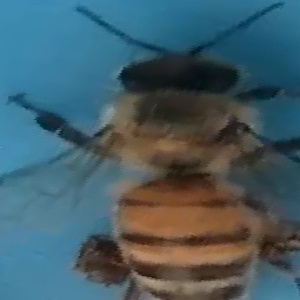bee: (17, 4, 295, 300)
